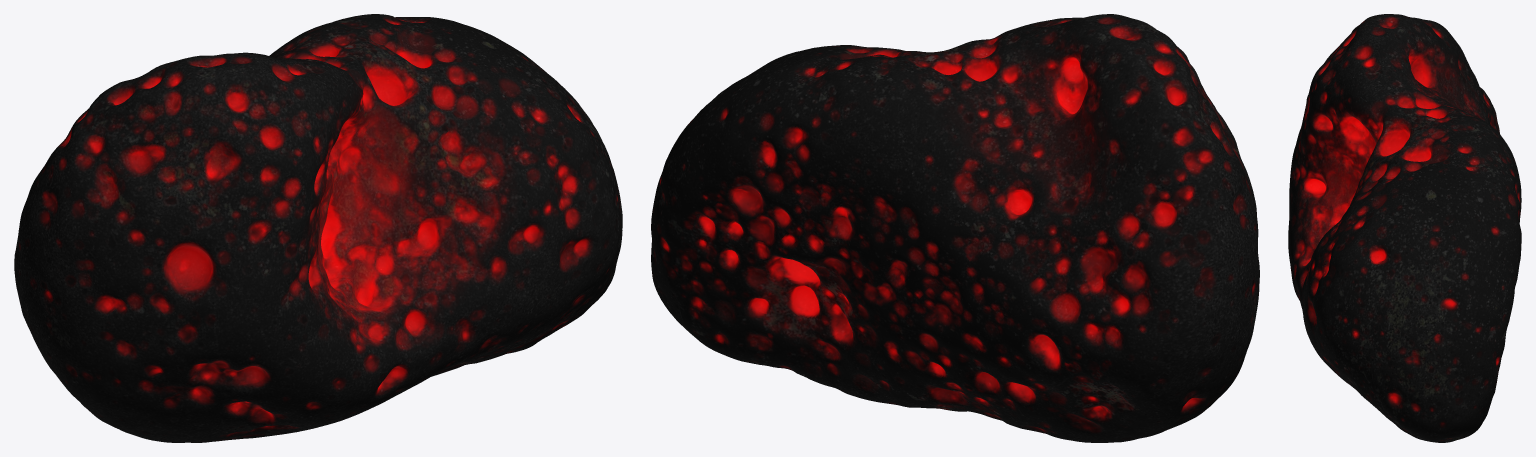
The model's file is volcanic_rock.glb.
The picture shows the model from 3 angles, left to right: view 1: azimuth 30°, elevation 25°; view 2: azimuth 150°, elevation 25°; view 3: azimuth 270°, elevation 25°; orthographic projection. The views are drawn at different scales.
Parts seen in each view (by area): view 1: Object_2; view 2: Object_2; view 3: Object_2.
Boxes of the visible parts, <box> form: Object_2: <box>14,14,622,442</box>; Object_2: <box>651,14,1259,442</box>; Object_2: <box>1288,14,1521,442</box>.
Bounding box in the file's own units: 3.73 × 2.44 × 1.71.
1 material, 1 textured.
